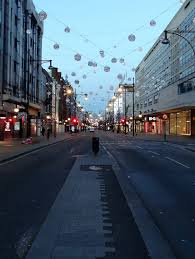strada: (2, 114, 194, 259)
